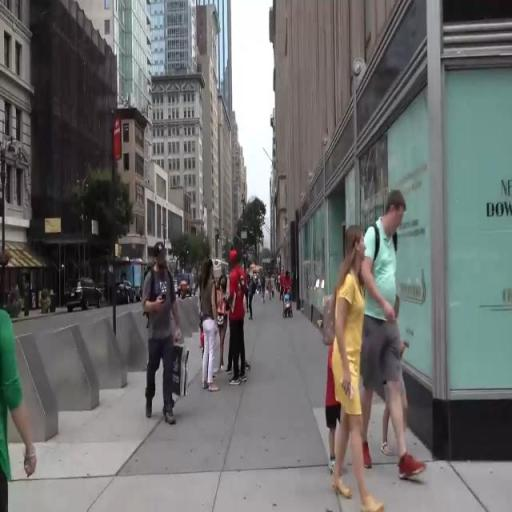person: (367, 198, 413, 488), (1, 270, 45, 512), (340, 229, 375, 512), (145, 248, 183, 436), (228, 242, 252, 387), (200, 255, 217, 402), (327, 336, 342, 465), (219, 270, 228, 369), (285, 272, 298, 329), (261, 272, 268, 308), (269, 276, 274, 310), (275, 273, 282, 295)
